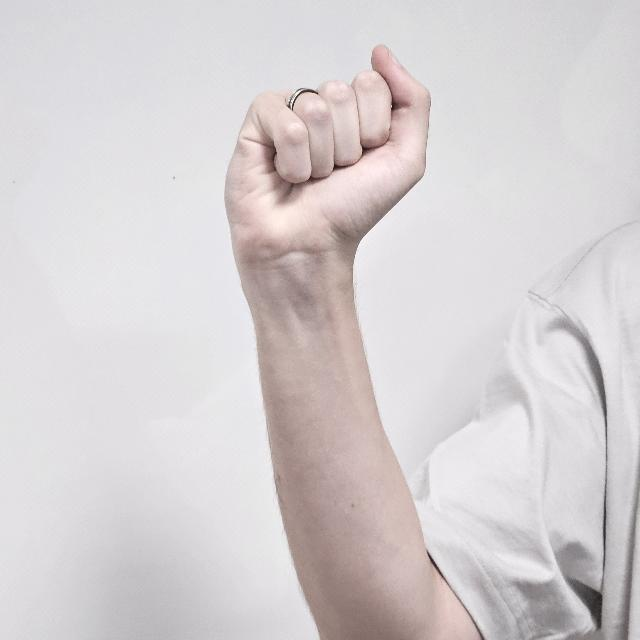Quadro: (224, 46, 428, 270)
